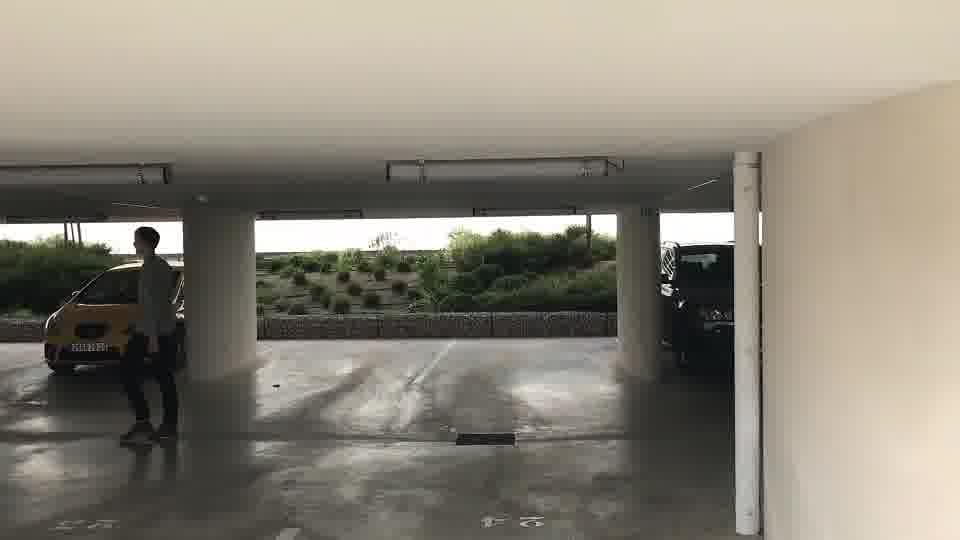jugador: (100, 225, 198, 448)
